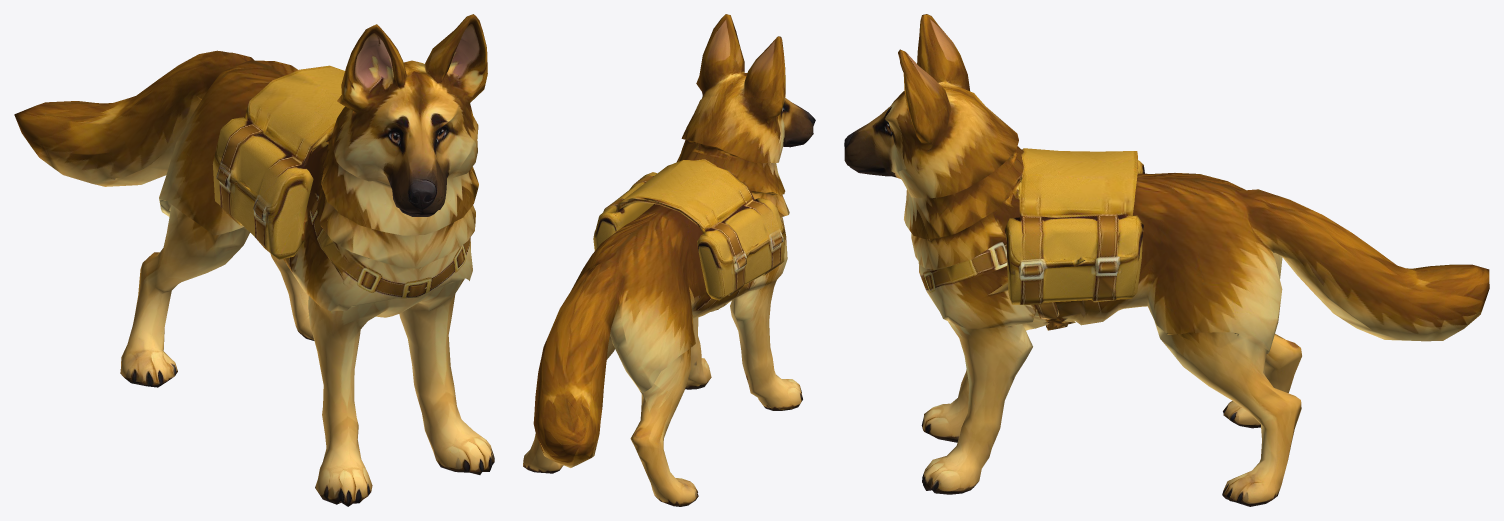
The model's file is trail_pup.fbx.
3 views of the same model, side by side, from view 1: azimuth 30°, elevation 25°; view 2: azimuth 150°, elevation 25°; view 3: azimuth 270°, elevation 25° (orthographic). The views are drawn at different scales.
Visible parts, largest first — view 1: Mesh_0; view 2: Mesh_0; view 3: Mesh_0.
Boxes of the visible parts, left/top/right/bottom form: Mesh_0: left=14, top=14, right=494, bottom=506; Mesh_0: left=523, top=14, right=815, bottom=506; Mesh_0: left=844, top=14, right=1489, bottom=506.
Size of the model in its own units: 0.3641 by 0.7301 by 1.
1 material, 1 textured.
